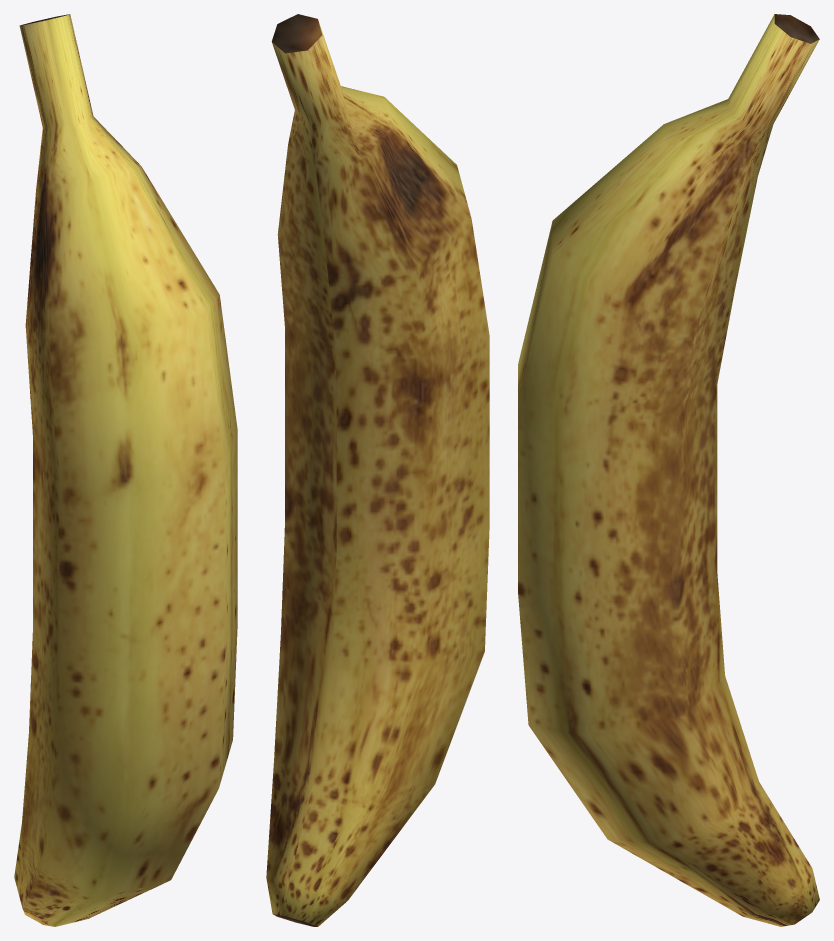
File: banana2.obj
The picture shows the model from 3 angles, left to right: view 1: azimuth 30°, elevation 25°; view 2: azimuth 150°, elevation 25°; view 3: azimuth 270°, elevation 25°; orthographic projection.
Visible parts, largest first — view 1: Cylinder; view 2: Cylinder; view 3: Cylinder.
Part boxes in pixels (x1=…): Cylinder: x1=14, y1=14, x2=237, y2=926; Cylinder: x1=266, y1=14, x2=489, y2=926; Cylinder: x1=518, y1=14, x2=819, y2=926.
Size of the model in its own units: 0.4028 by 1.96 by 0.5945.
